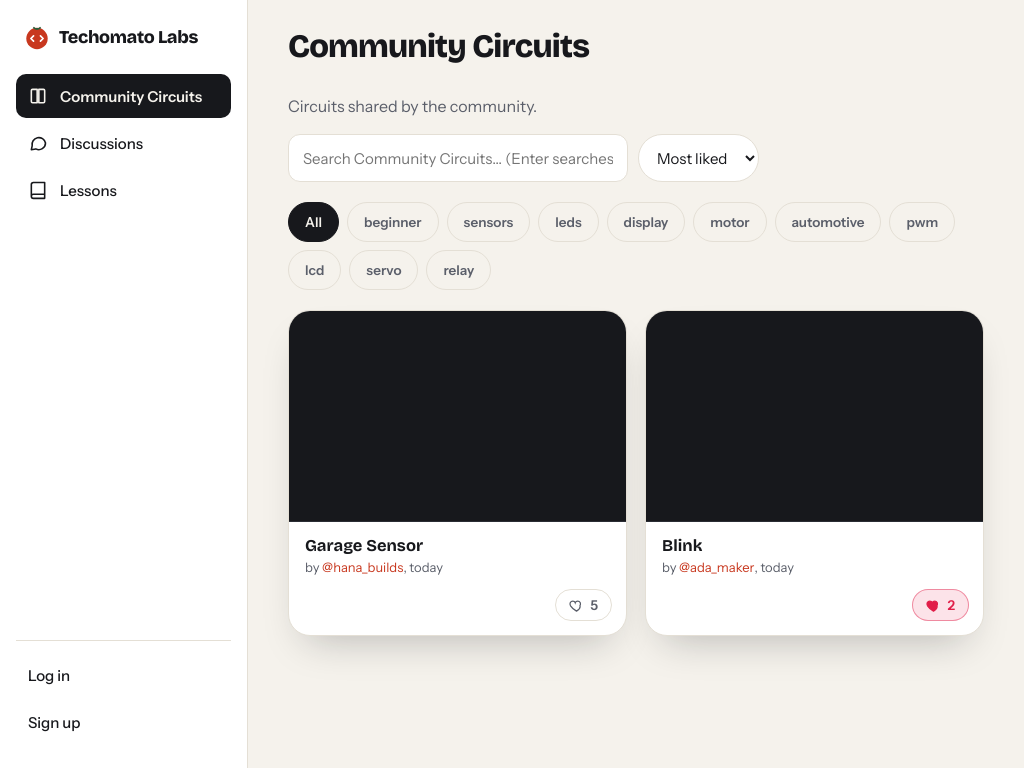
GalleryPage › emptying the box after a server search brings the normal pages back
The width and height of the screenshot is (1024, 768).
Expected: the link "Blink" is shown, x1=662 y1=536 x2=702 y2=555
Type "gar" into the field labelled "Search Community Circuits" at (458, 158), box x1=288 y1=134 x2=628 y2=182
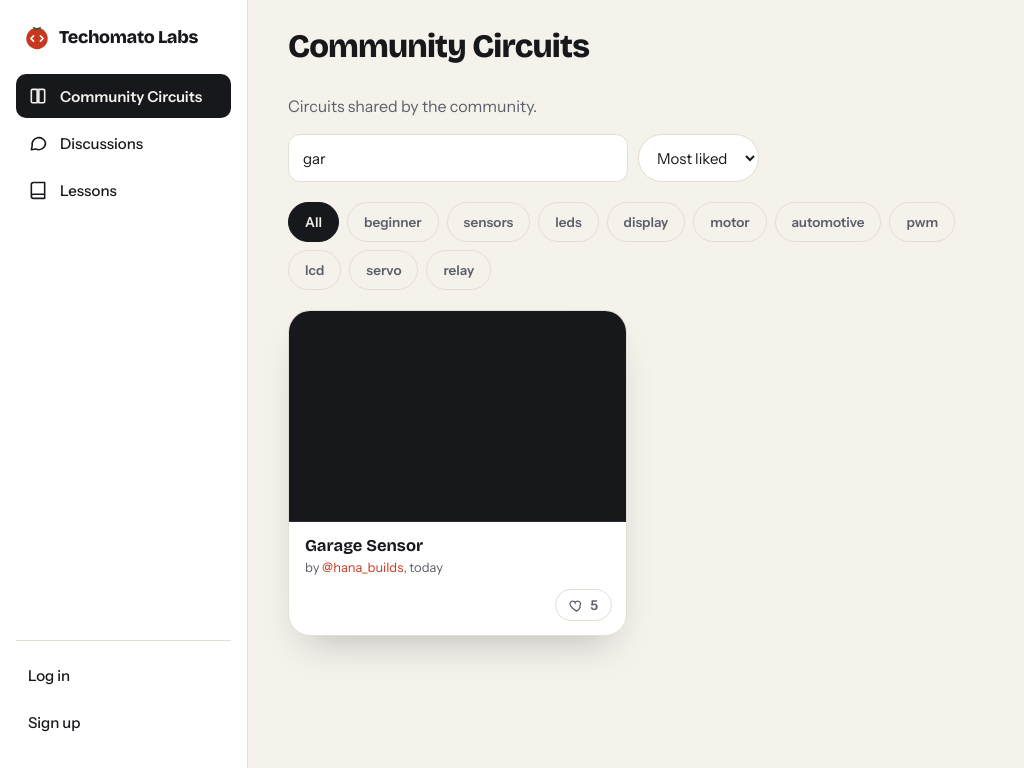
Submit the form named "Search Community Circuits", box x1=288 y1=134 x2=759 y2=182
Expected: the link "Blink" is not shown
Clear the field named "Search Community Circuits" at (458, 158), box x1=288 y1=134 x2=628 y2=182
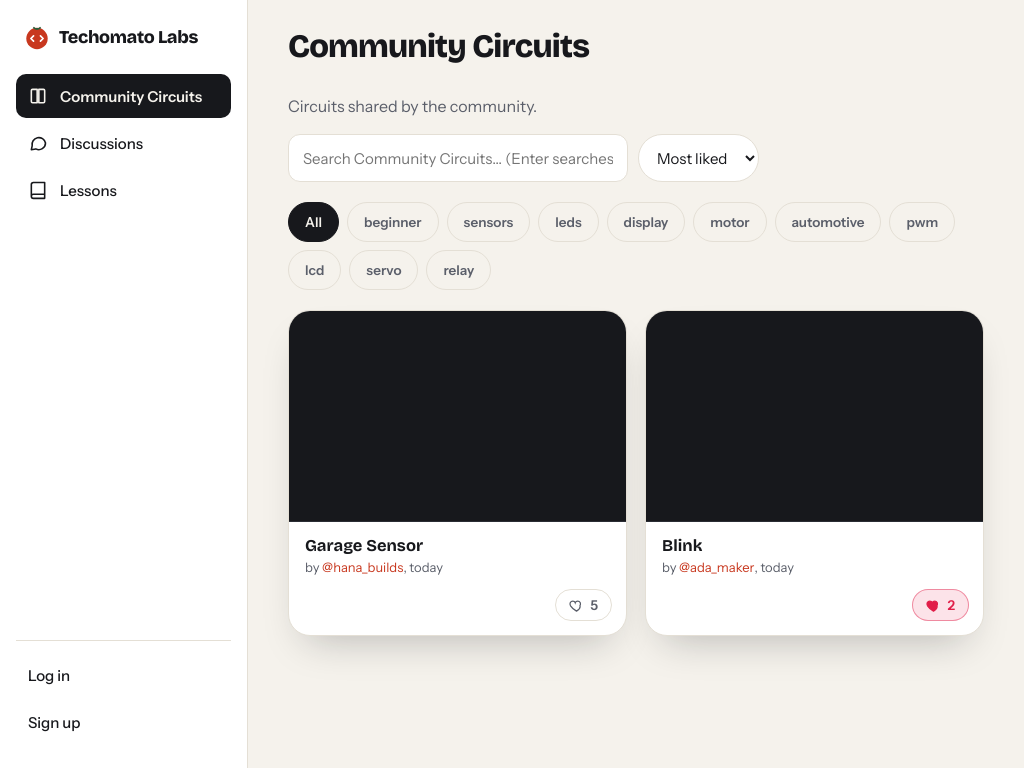
Expected: the link "Blink" is shown, x1=662 y1=536 x2=702 y2=555
